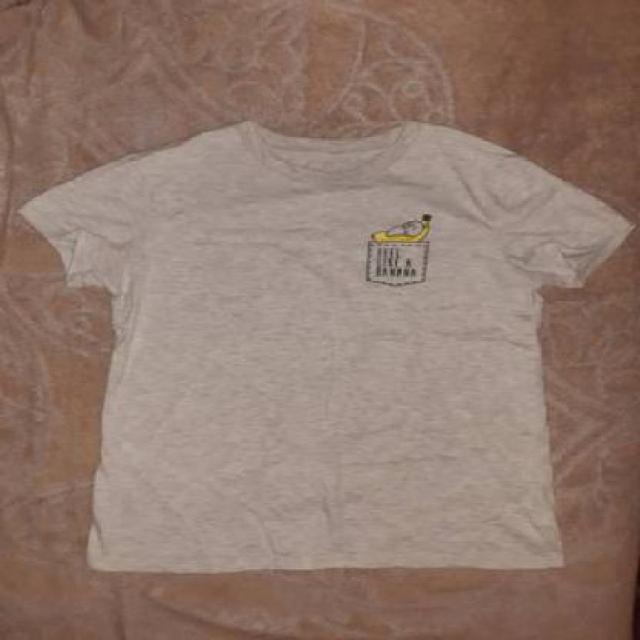shirt: (15, 120, 634, 572)
